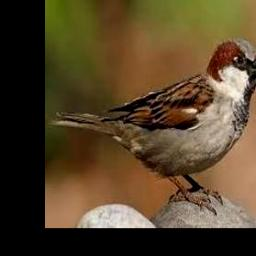Sparrow: (49, 38, 256, 214)
